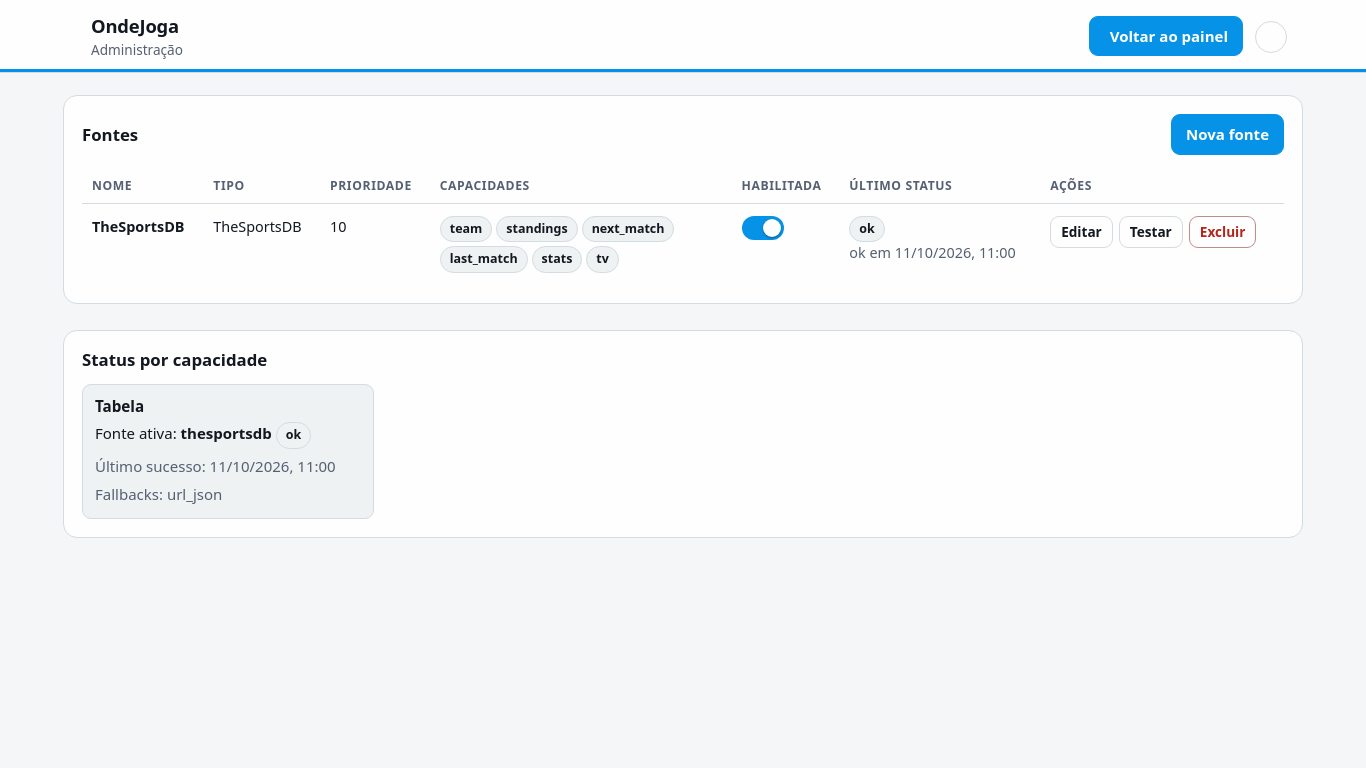
Test: view Admin (fontes de dados) › cria uma nova fonte via POST com o corpo esperado
Expected: the table is shown, [82,168,1284,285]
Step 1. Click the button "Nova fonte" → (1228, 134), box [1171,114,1284,154]
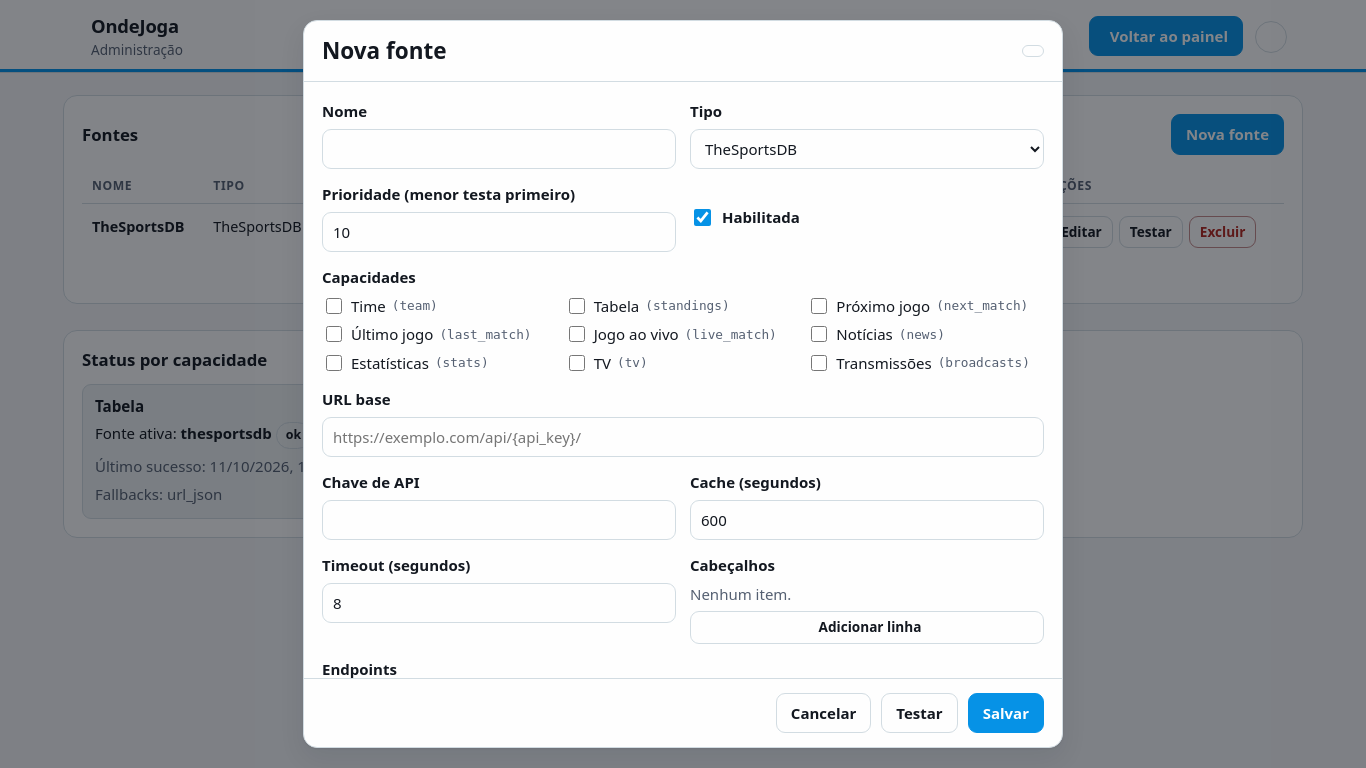
Step 2. Type "Minha Fonte" into the field labelled "Nome" → (499, 149), box [322,129,676,169]
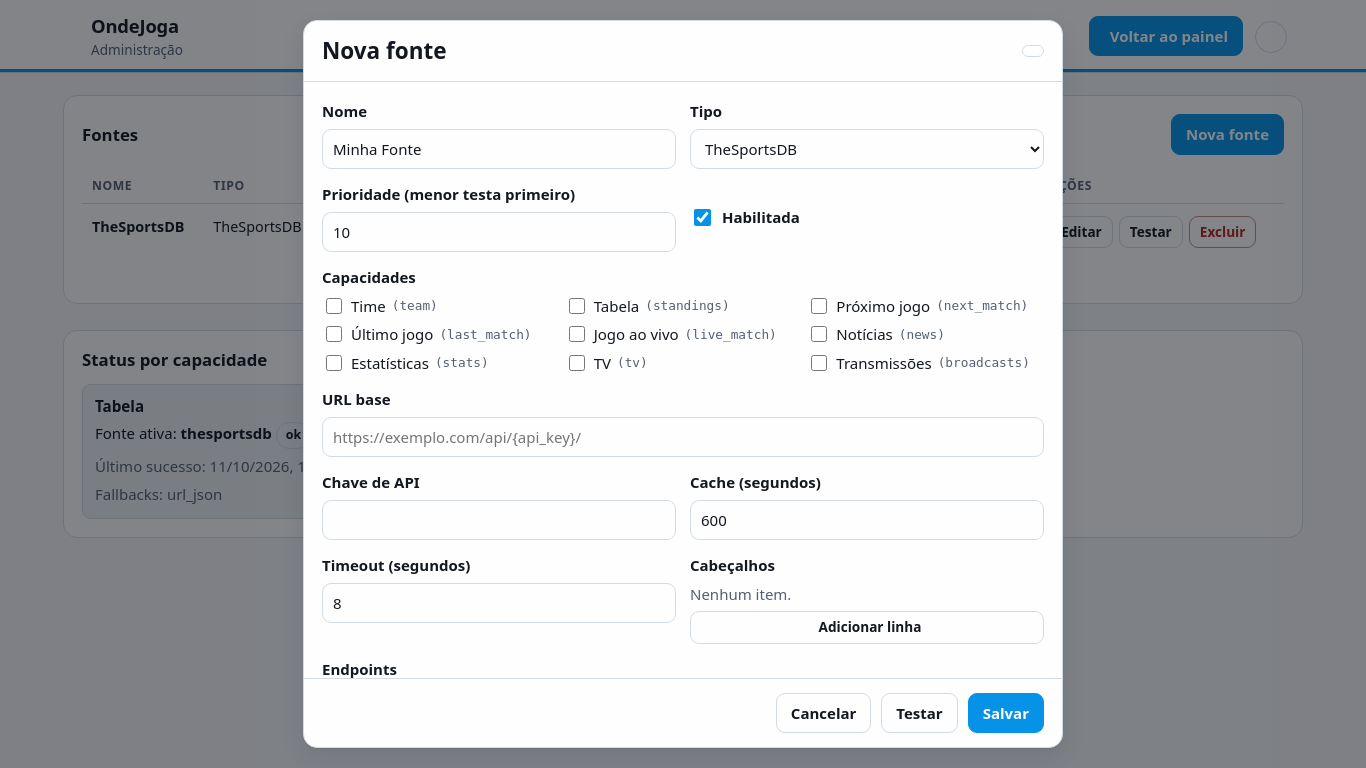
Step 3. Type "https://exemplo.com/api/" into the field labelled "URL base" → (683, 437), box [322,417,1044,457]
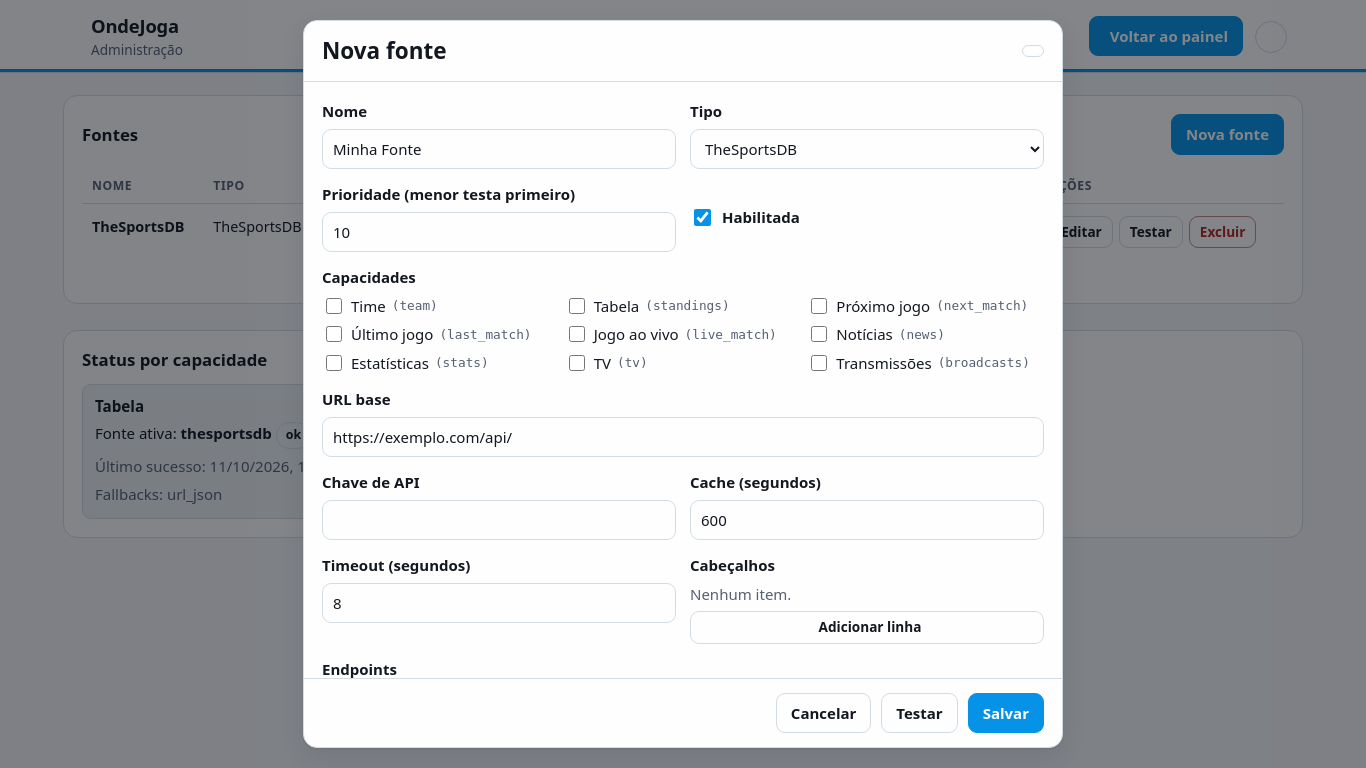
Step 4. Click the checkbox labelled "Notícias (news)" → (819, 334), box [811,326,827,342]
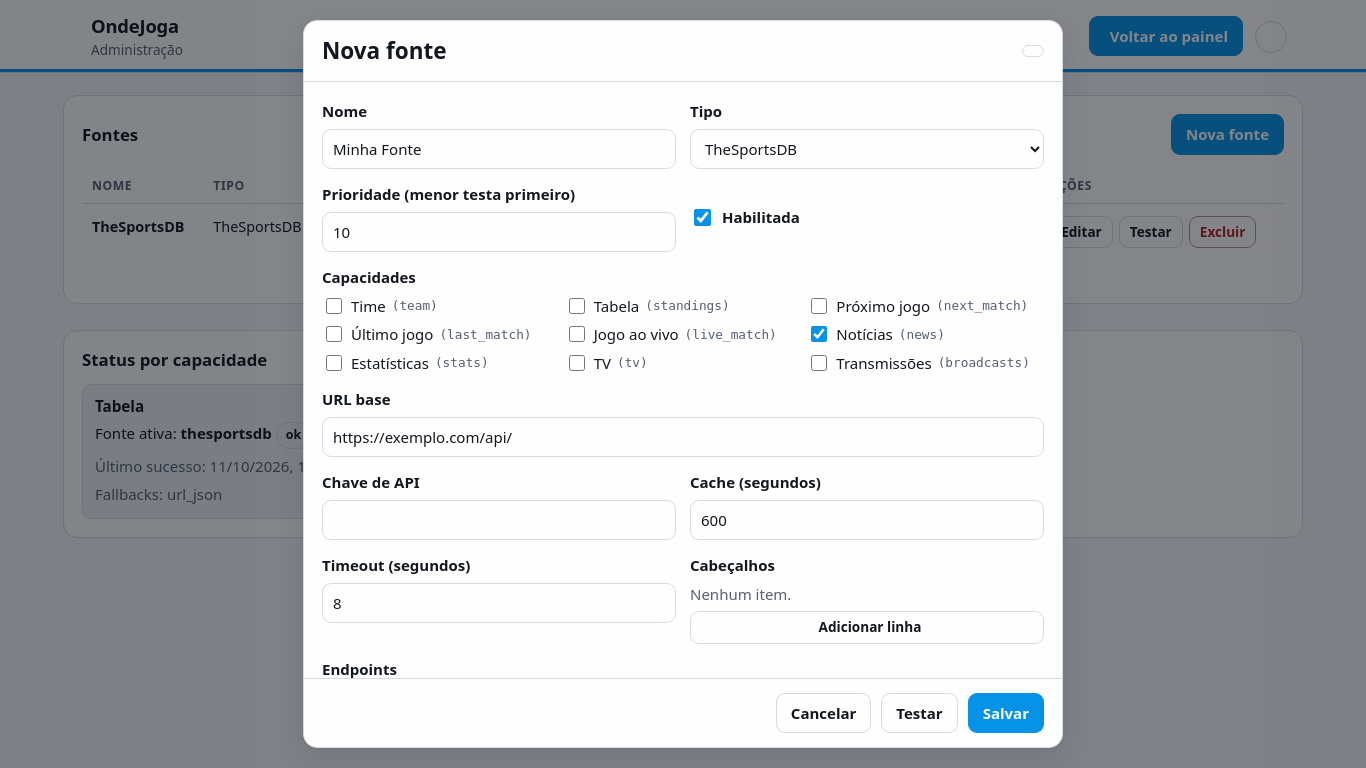
Step 5. Click the button "Salvar" → (1006, 713), box [968,692,1044,733]
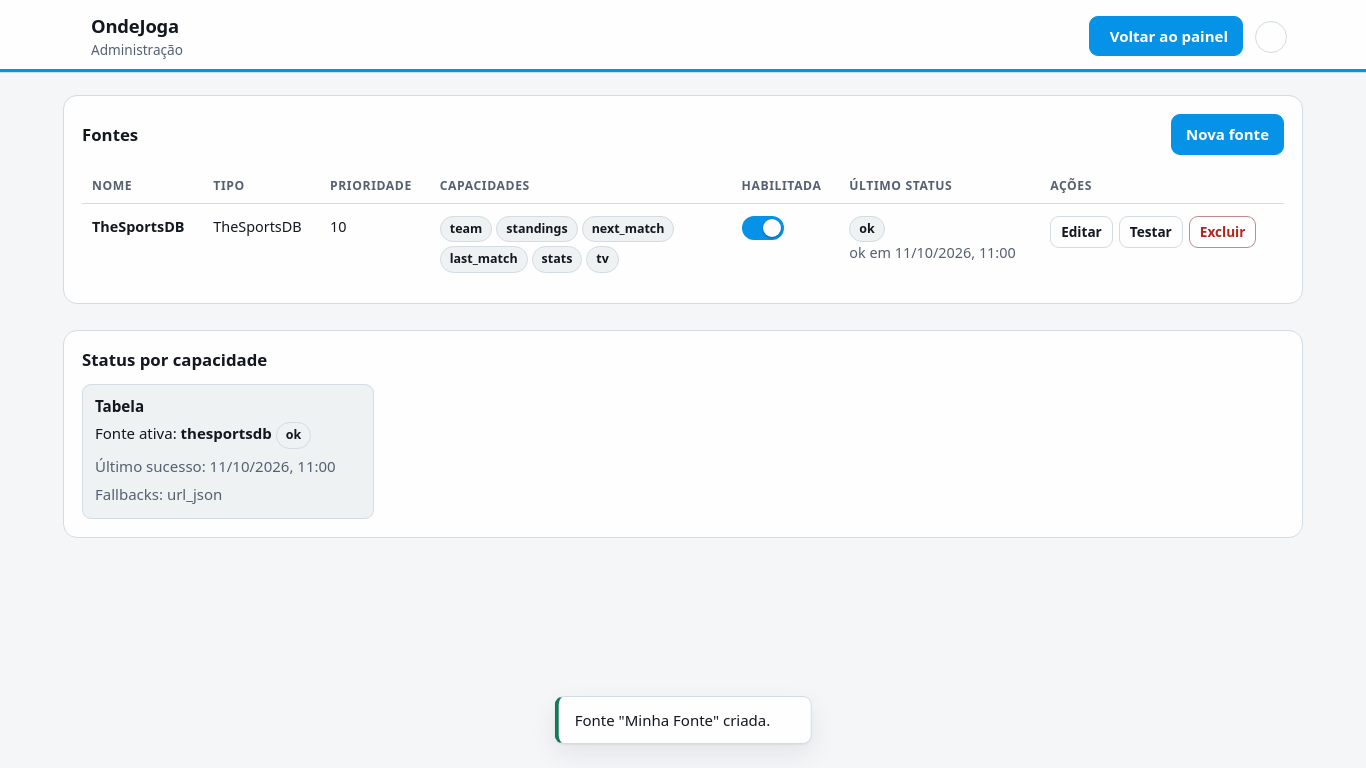
Expected: the text "thesportsdb" is shown, [181,423,272,443]
Expected: the text "Fonte \"Minha Fonte\" criada." is shown, [575,708,770,731]
